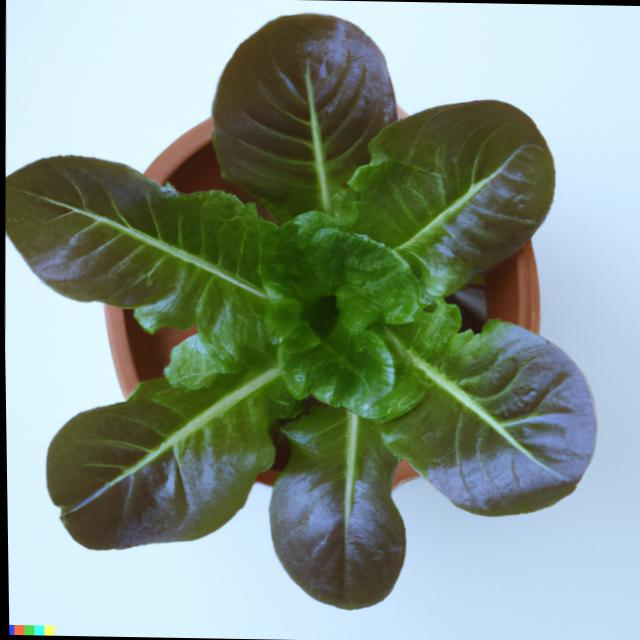-P: (0, 0, 613, 622)
